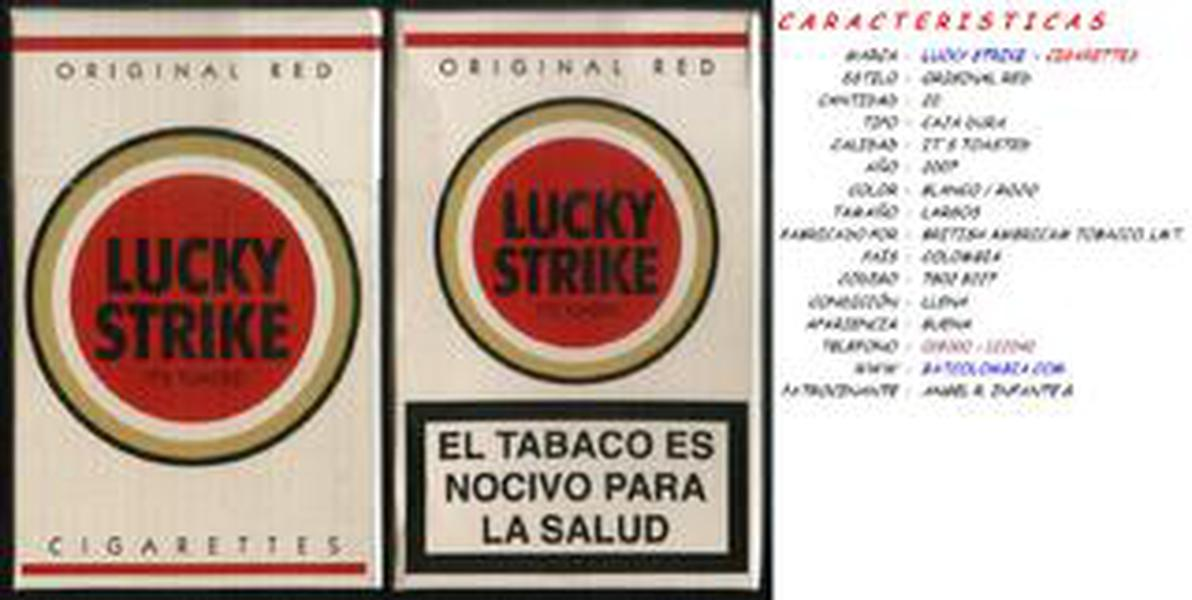lucky_strike_red: (14, 9, 383, 598), (397, 15, 761, 592)
